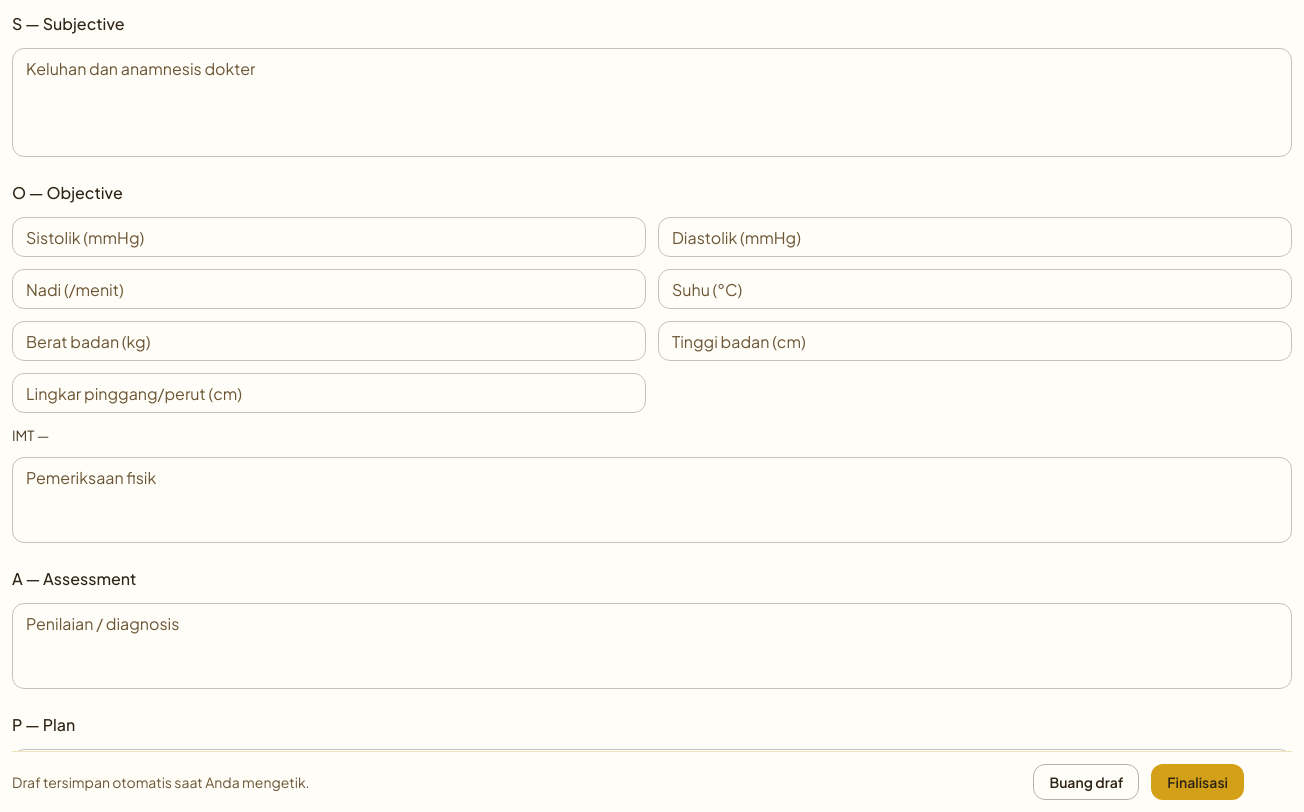
EncounterForm › tensi yang tidak berpasangan ditandai di bagian O
Type "120" into the field labelled "Sistolik (mmHg)". click: (329, 237)
box: x1=12 y1=217 x2=646 y2=257
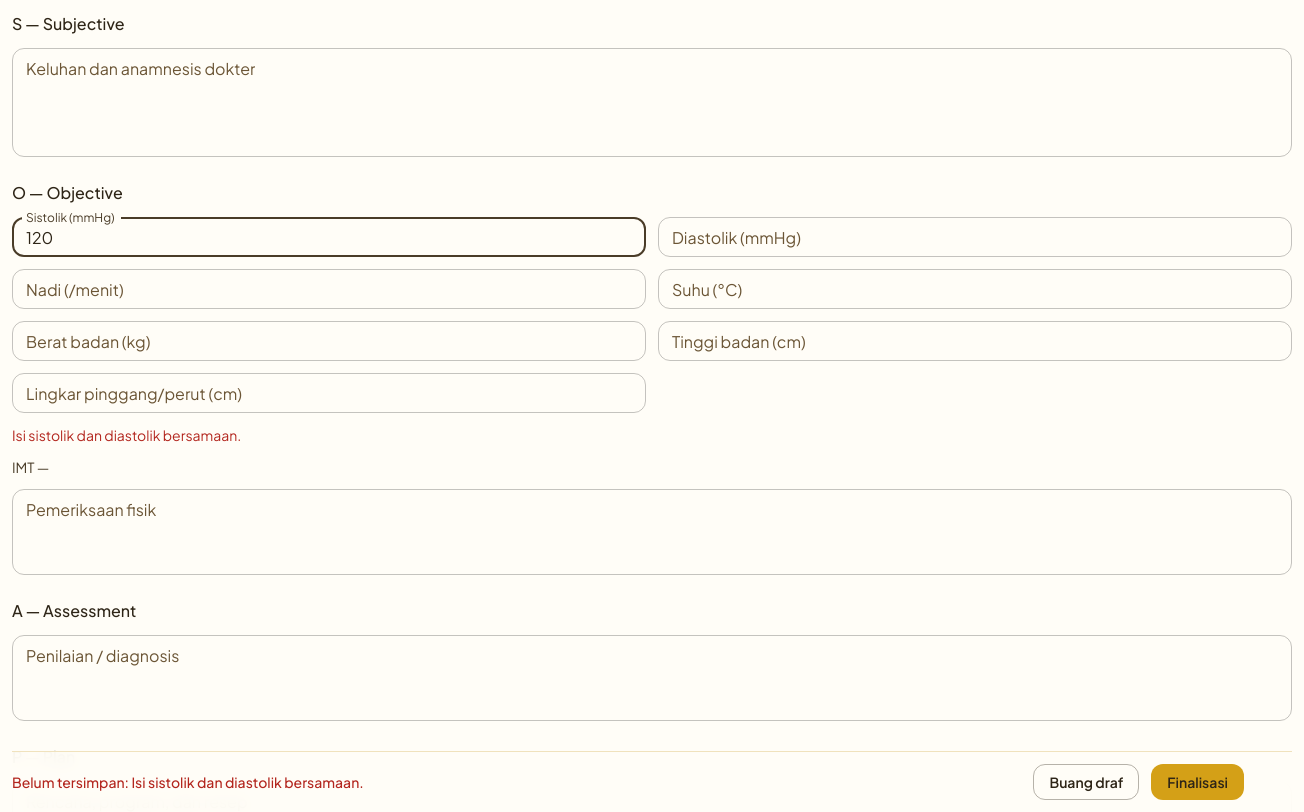
Check: the text "Isi sistolik dan diastolik bersamaan." is shown, box x1=12 y1=426 x2=241 y2=444
